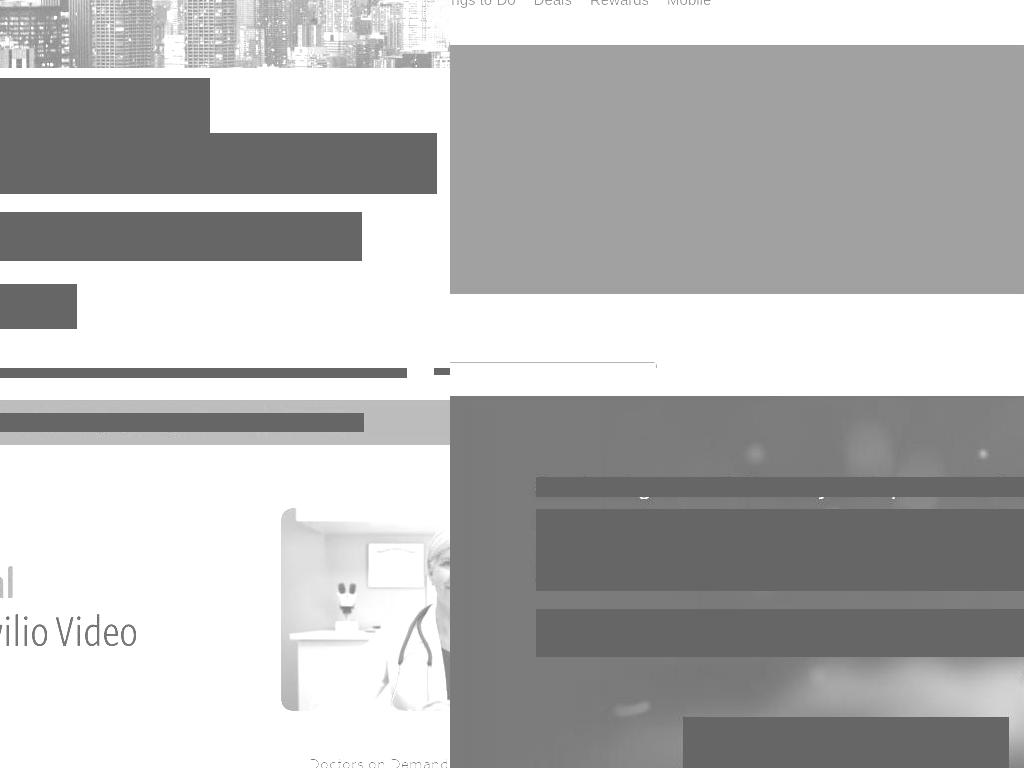button: (683, 717, 1009, 768), (0, 284, 77, 329), (124, 368, 263, 378), (580, 0, 659, 17), (450, 0, 525, 17), (14, 368, 125, 378), (658, 0, 721, 17), (524, 0, 581, 17), (262, 368, 340, 378), (339, 368, 407, 378)
field: (536, 609, 1024, 657)
heading: (0, 133, 437, 194), (0, 78, 210, 193), (450, 63, 1018, 90), (0, 558, 242, 607), (0, 607, 138, 654)
image: (280, 508, 450, 712)
text: (536, 509, 1024, 591), (0, 212, 362, 261), (450, 102, 1018, 126), (536, 477, 1024, 497), (0, 413, 267, 432), (267, 413, 364, 432), (450, 0, 516, 8), (589, 0, 649, 8), (667, 0, 712, 8), (533, 0, 572, 8)
